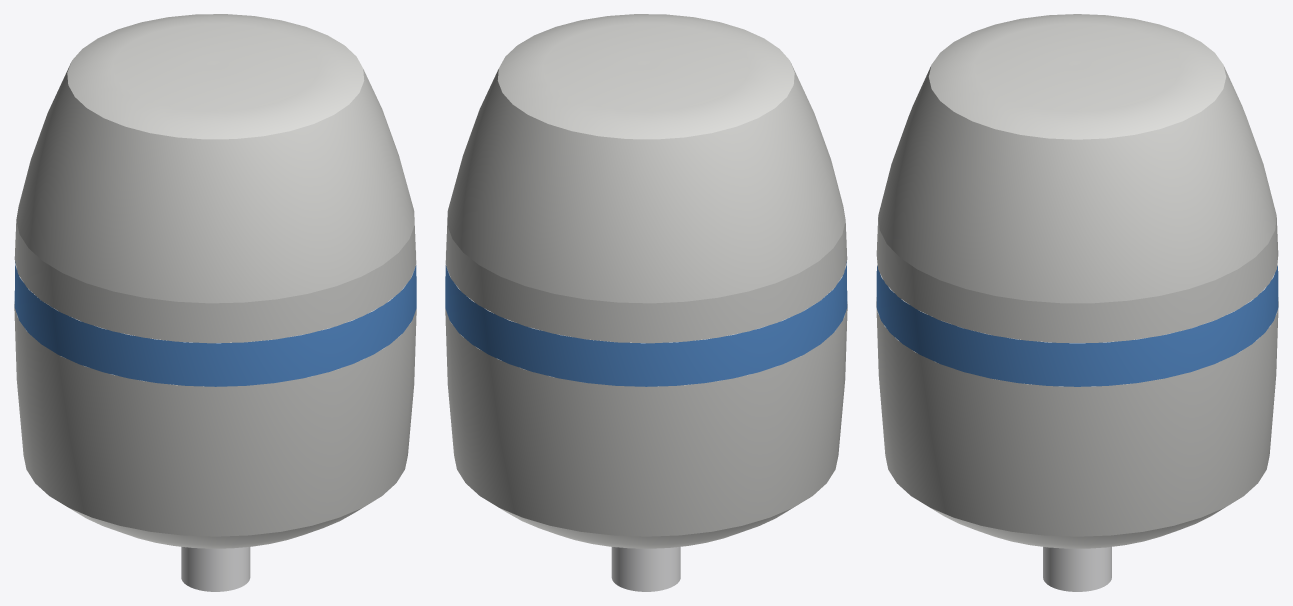
The model's file is DroneDevice.fbx.
3 renders of one model, left to right at view 1: azimuth 30°, elevation 25°; view 2: azimuth 150°, elevation 25°; view 3: azimuth 270°, elevation 25°, orthographic.
Visible parts, largest first — view 1: Drone360Body, Drone360Band, Drone360Base; view 2: Drone360Body, Drone360Band, Drone360Base; view 3: Drone360Body, Drone360Band, Drone360Base.
Boxes of the visible parts, x1,y1,x2,y2 form: Drone360Body: [14, 14, 416, 548]; Drone360Band: [14, 252, 416, 386]; Drone360Base: [181, 546, 250, 591]; Drone360Body: [445, 14, 847, 548]; Drone360Band: [445, 252, 847, 386]; Drone360Base: [611, 546, 680, 591]; Drone360Body: [876, 14, 1278, 548]; Drone360Band: [876, 260, 1278, 386]; Drone360Base: [1043, 547, 1111, 591].
Size of the model in its own units: 11.68 by 16.4 by 11.67.
